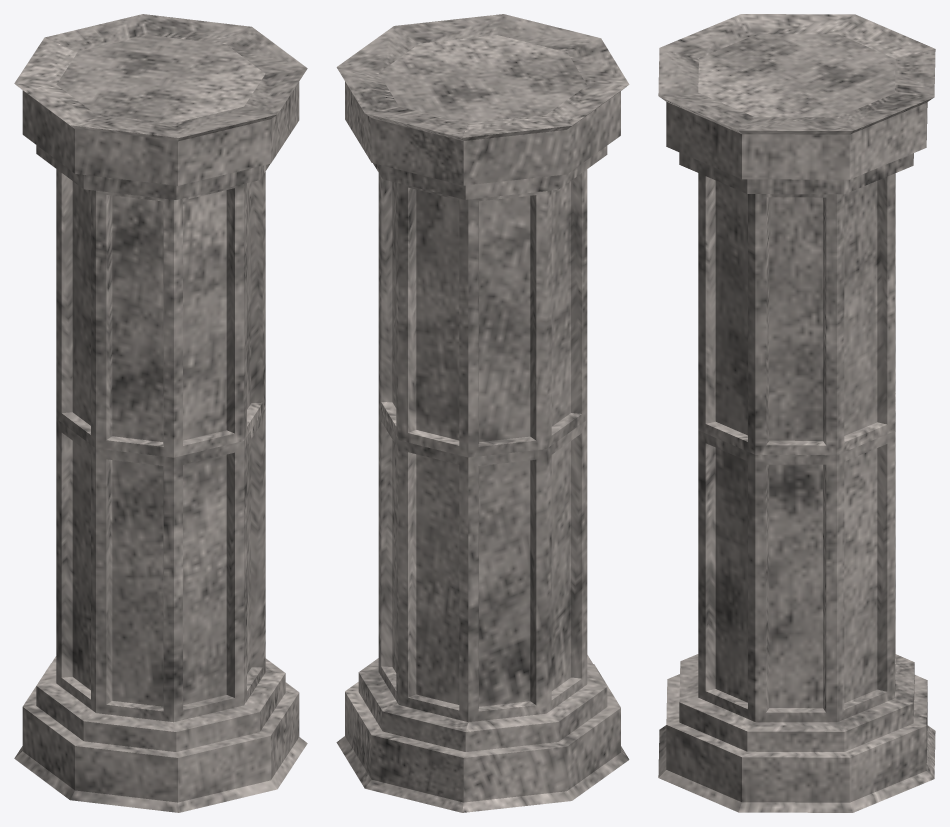
Rendered from pillar.fbx.
3 renders of one model, left to right at view 1: azimuth 30°, elevation 25°; view 2: azimuth 150°, elevation 25°; view 3: azimuth 270°, elevation 25°, orthographic.
Visible parts, largest first — view 1: Pillar; view 2: Pillar; view 3: Pillar.
Boxes of the visible parts, left/top/right/bottom form: Pillar: left=14, top=14, right=307, bottom=812; Pillar: left=336, top=14, right=629, bottom=812; Pillar: left=658, top=14, right=935, bottom=812.
Size of the model in its own units: 130 by 353 by 130.
1 material, 1 textured.
